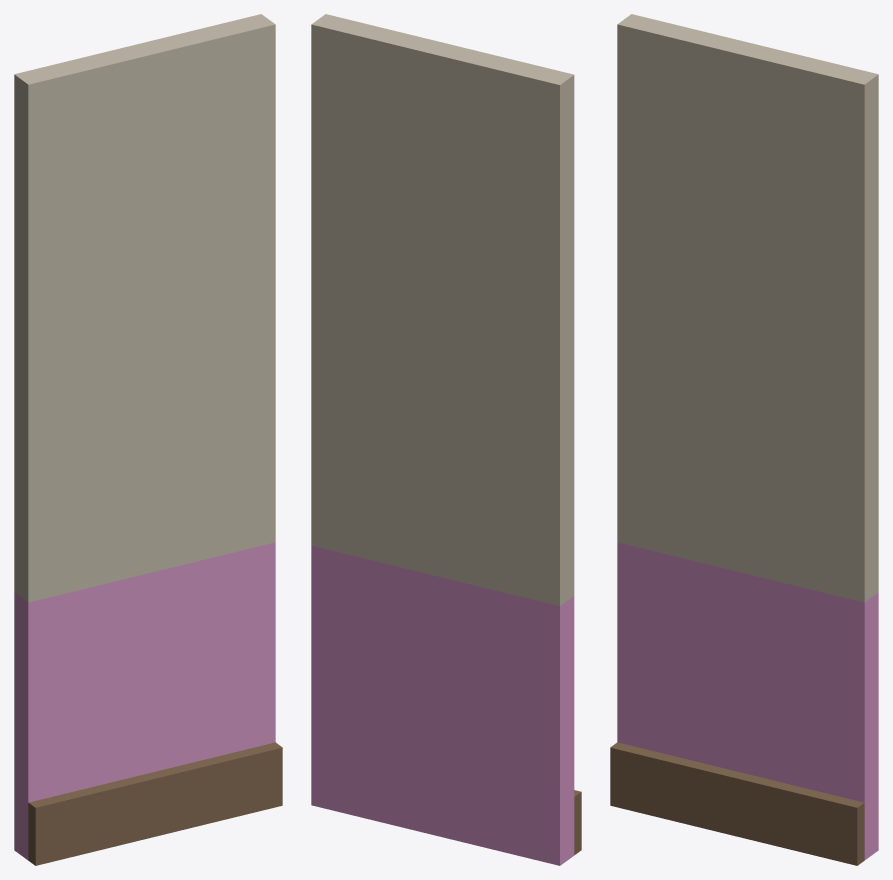
Rendered from Mesh_WallBaseboard2Colors_H1.fbx.
3 views of the same model, side by side, from view 1: azimuth 30°, elevation 25°; view 2: azimuth 150°, elevation 25°; view 3: azimuth 330°, elevation 25° (orthographic).
Visible parts, largest first — view 1: Mesh_WallBaseboard2Colors_H1; view 2: Mesh_WallBaseboard2Colors_H1; view 3: Mesh_WallBaseboard2Colors_H1.
Part boxes in pixels (x1=…): Mesh_WallBaseboard2Colors_H1: x1=14, y1=14, x2=282, y2=865; Mesh_WallBaseboard2Colors_H1: x1=311, y1=14, x2=581, y2=865; Mesh_WallBaseboard2Colors_H1: x1=610, y1=14, x2=878, y2=865.
Bounding box in the file's own units: 1 × 3 × 0.15.
